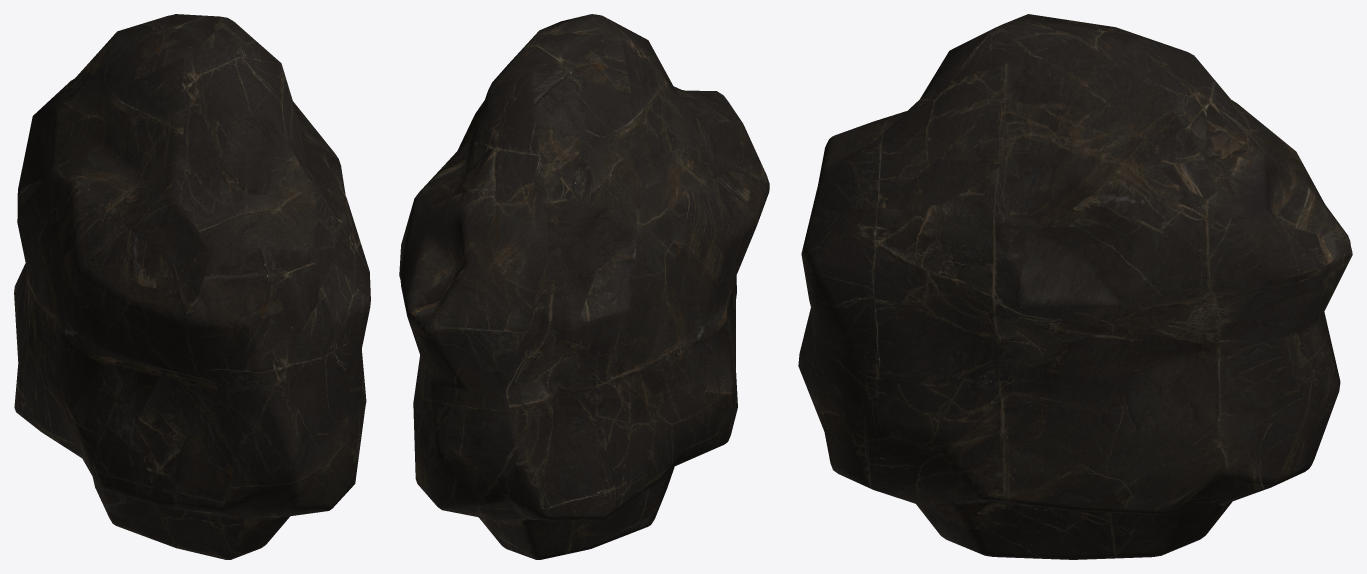
The model's file is ravine_cliff_c.glb.
3 renders of one model, left to right at view 1: azimuth 30°, elevation 25°; view 2: azimuth 150°, elevation 25°; view 3: azimuth 270°, elevation 25°, orthographic. The views are drawn at different scales.
Parts seen in each view (by area): view 1: ravine_cliff_c; view 2: ravine_cliff_c; view 3: ravine_cliff_c.
Part boxes in pixels (<box>): ravine_cliff_c: <box>14,14,370,559</box>; ravine_cliff_c: <box>399,14,769,559</box>; ravine_cliff_c: <box>798,14,1352,559</box>.
Size of the model in its own units: 1.52 by 2.58 by 2.49.
Materials: 1 (1 with a texture image).
